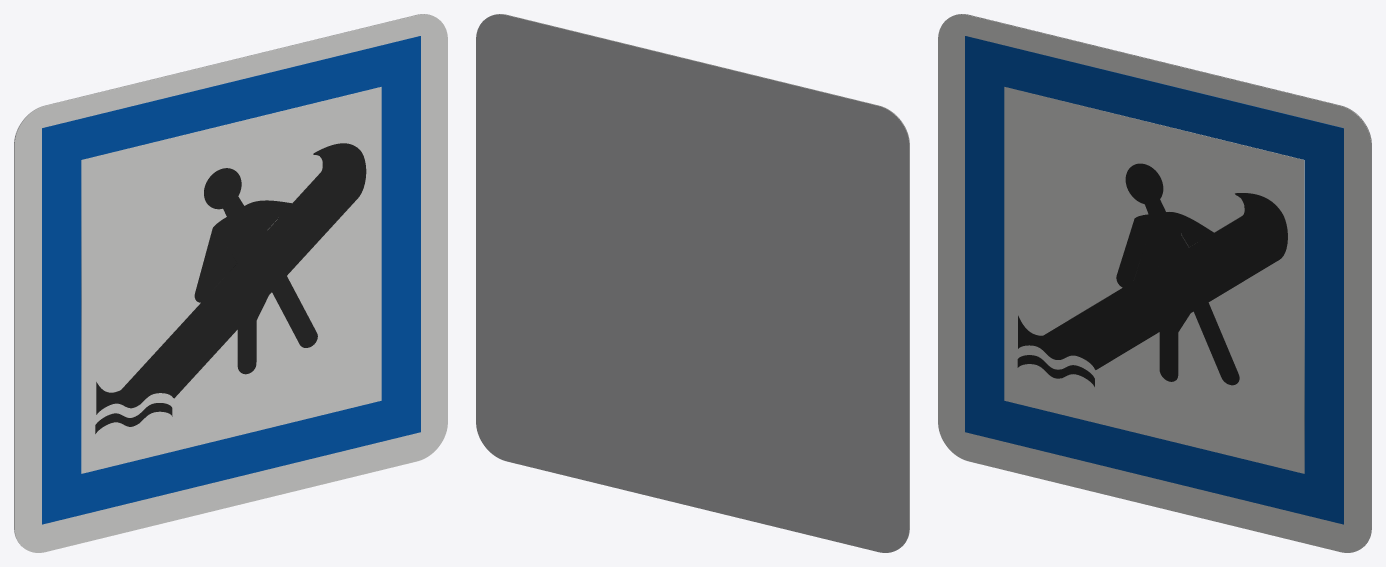
The picture shows the model from 3 angles, left to right: view 1: azimuth 30°, elevation 25°; view 2: azimuth 150°, elevation 25°; view 3: azimuth 330°, elevation 25°; orthographic projection.
Visible parts, largest first — view 1: CE19_p02, CE19_p01, CE19_p00, CE19_p06, CE19_dos, CE19_p03; view 2: CE19_dos, CE19_p00; view 3: CE19_p02, CE19_p01, CE19_p00, CE19_p06, CE19_dos, CE19_p03.
Boxes of the visible parts, x1,y1,x2,y2 form: CE19_p02: (81,87,381,473); CE19_p01: (42,36,420,524); CE19_p00: (14,14,447,552); CE19_p06: (96,143,366,414); CE19_dos: (14,14,430,546); CE19_p03: (95,403,172,433); CE19_dos: (476,14,909,552); CE19_p00: (493,14,909,546); CE19_p02: (1004,87,1304,473); CE19_p01: (965,36,1343,524); CE19_p00: (938,14,1371,552); CE19_p06: (1018,163,1287,385); CE19_dos: (955,14,1371,546); CE19_p03: (1017,355,1094,386).
Size of the model in its own units: 0.7 by 0.6889 by 0.0043.
